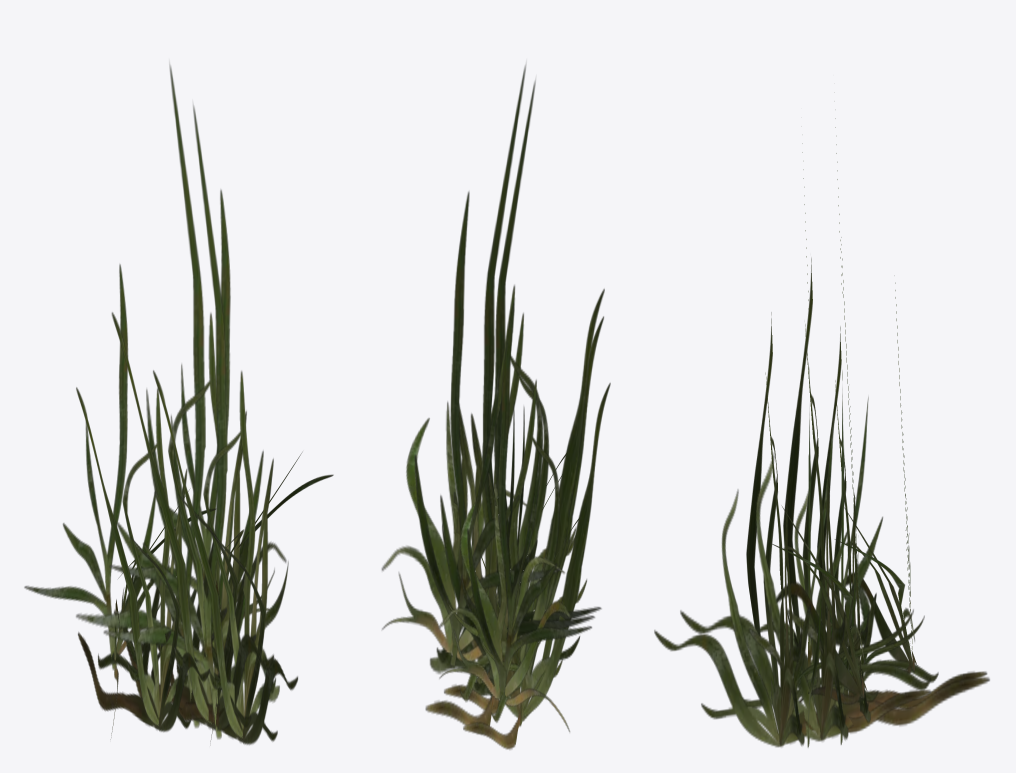
File: grass_clump_c.glb
3 views of the same model, side by side, from view 1: azimuth 30°, elevation 25°; view 2: azimuth 150°, elevation 25°; view 3: azimuth 270°, elevation 25° (orthographic). The views are drawn at different scales.
Visible parts, largest first — view 1: grass_bermuda_01_medium_c.004, grass_bermuda_01_medium_c.003, grass_bermuda_01_medium_c.005, grass_bermuda_01_medium_d.003, grass_bermuda_01_medium_d.002, grass_bermuda_01_medium_e.002, grass_bermuda_01_medium_e.003; view 2: grass_bermuda_01_medium_e.003, grass_bermuda_01_medium_e.002, grass_bermuda_01_medium_c.005, grass_bermuda_01_medium_c.003, grass_bermuda_01_medium_d.002, grass_bermuda_01_medium_c.004, grass_bermuda_01_medium_d.003; view 3: grass_bermuda_01_medium_c.003, grass_bermuda_01_medium_c.004, grass_bermuda_01_medium_c.005, grass_bermuda_01_medium_e.003, grass_bermuda_01_medium_e.002, grass_bermuda_01_medium_d.002, grass_bermuda_01_medium_d.003.
Boxes of the visible parts, <box> form: grass_bermuda_01_medium_c.004: <box>153,370,297,744</box>; grass_bermuda_01_medium_c.003: <box>111,312,273,731</box>; grass_bermuda_01_medium_c.005: <box>76,387,209,732</box>; grass_bermuda_01_medium_d.003: <box>103,105,245,739</box>; grass_bermuda_01_medium_d.002: <box>76,64,234,727</box>; grass_bermuda_01_medium_e.002: <box>24,264,215,739</box>; grass_bermuda_01_medium_e.003: <box>109,189,333,741</box>; grass_bermuda_01_medium_e.003: <box>381,191,559,667</box>; grass_bermuda_01_medium_e.002: <box>439,303,591,731</box>; grass_bermuda_01_medium_c.005: <box>461,379,610,749</box>; grass_bermuda_01_medium_c.003: <box>425,285,604,734</box>; grass_bermuda_01_medium_d.002: <box>440,65,594,698</box>; grass_bermuda_01_medium_c.004: <box>442,313,603,714</box>; grass_bermuda_01_medium_d.003: <box>453,80,601,621</box>; grass_bermuda_01_medium_c.003: <box>680,258,989,741</box>; grass_bermuda_01_medium_c.004: <box>654,312,930,747</box>; grass_bermuda_01_medium_c.005: <box>760,326,987,723</box>; grass_bermuda_01_medium_e.003: <box>770,237,867,704</box>; grass_bermuda_01_medium_e.002: <box>834,282,917,694</box>; grass_bermuda_01_medium_d.002: <box>835,118,882,744</box>; grass_bermuda_01_medium_d.003: <box>802,143,847,747</box>.
Bounding box in the file's own units: 1.32 × 3.62 × 1.62.
1 material, 1 textured.
